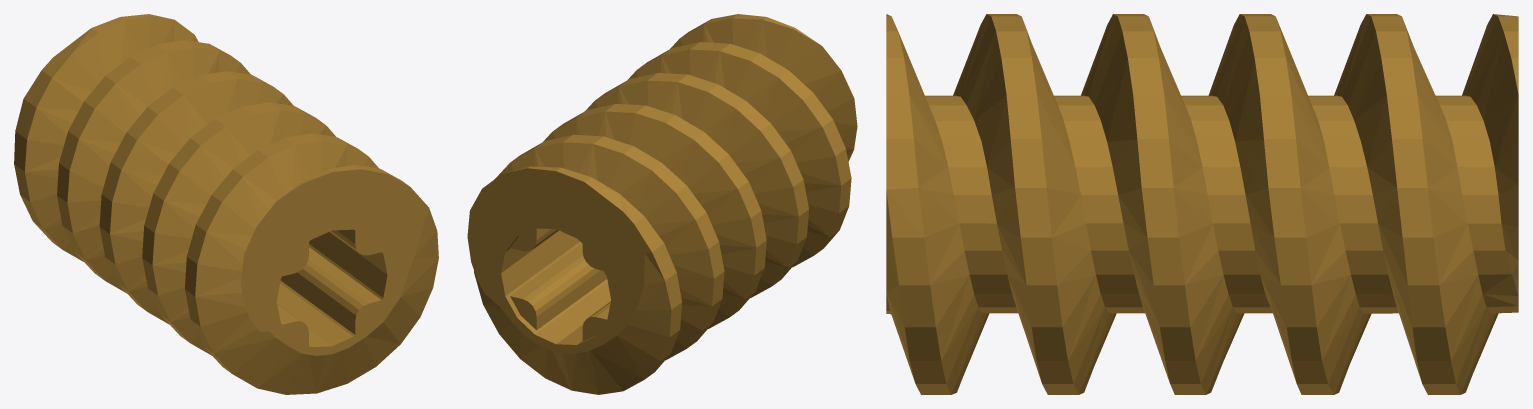
Rendered from 4276 Worm.dae.
The picture shows the model from 3 angles, left to right: view 1: azimuth 30°, elevation 25°; view 2: azimuth 150°, elevation 25°; view 3: azimuth 270°, elevation 25°; orthographic projection. The views are drawn at different scales.
Visible parts, largest first — view 1: Part.0; view 2: Part.0; view 3: Part.0.
Boxes of the visible parts, left/top/right/bottom form: Part.0: left=14, top=14, right=438, bottom=394; Part.0: left=467, top=14, right=857, bottom=394; Part.0: left=886, top=14, right=1518, bottom=394.
Size of the model in its own units: 9.63 by 9.63 by 15.92.
